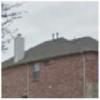chimneys: (13, 34, 25, 61)
